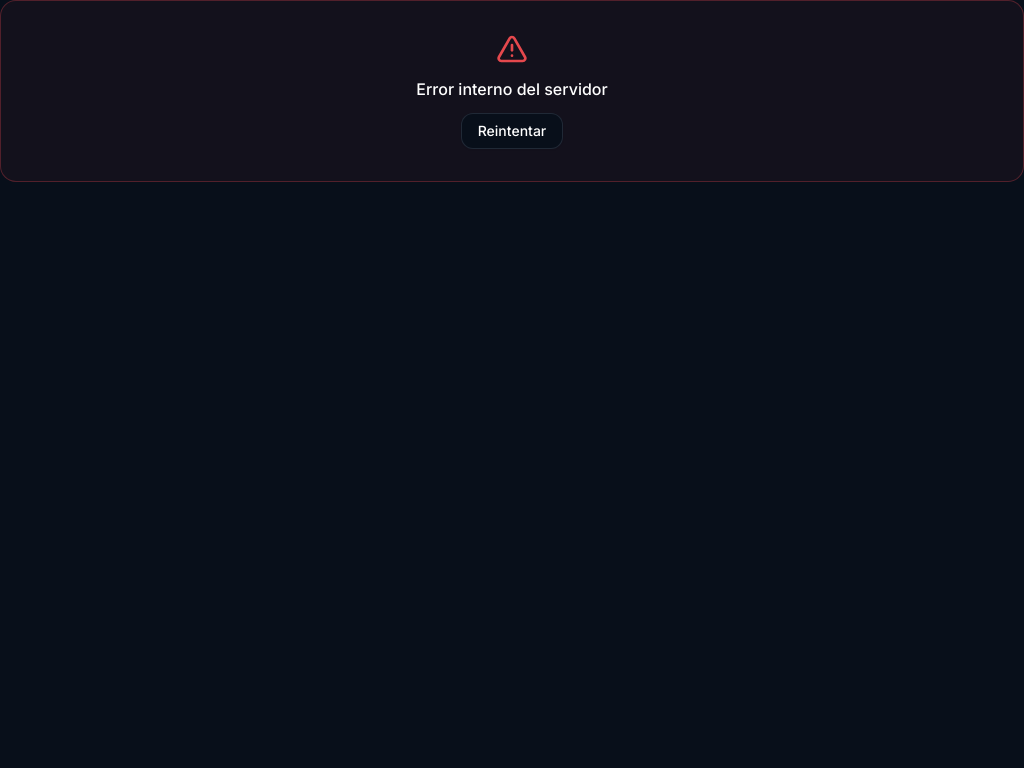
TeamRecordPage › shows the API error and retries
Check: the message shows "Error interno del servidor", box top-left (416, 79), bottom-right (608, 99)
Click the button "Reintentar": {"x": 512, "y": 131} top-left (461, 113), bottom-right (563, 149)
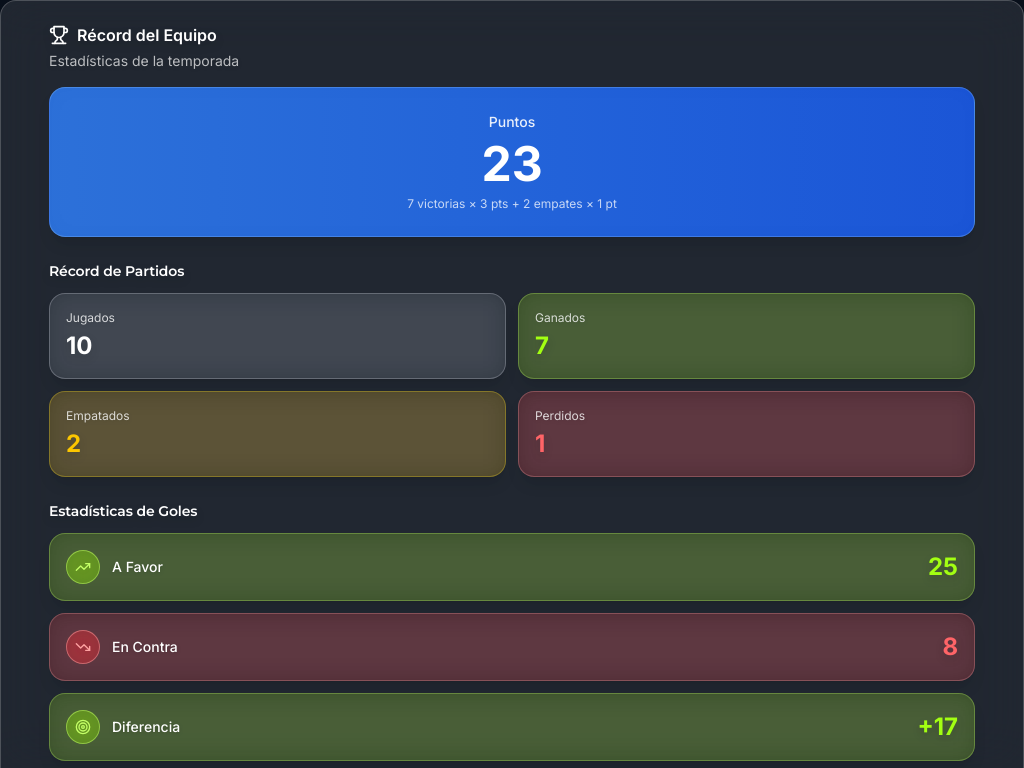
Check: the text "Jugados" is shown, box top-left (66, 310), bottom-right (115, 325)
